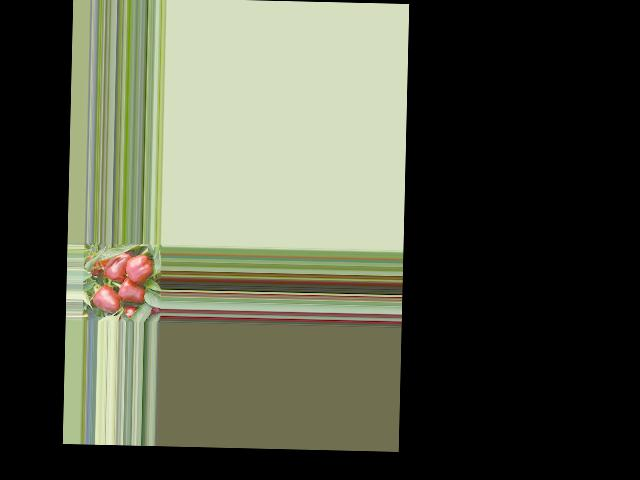bell_pepper: (125, 252, 152, 289)
